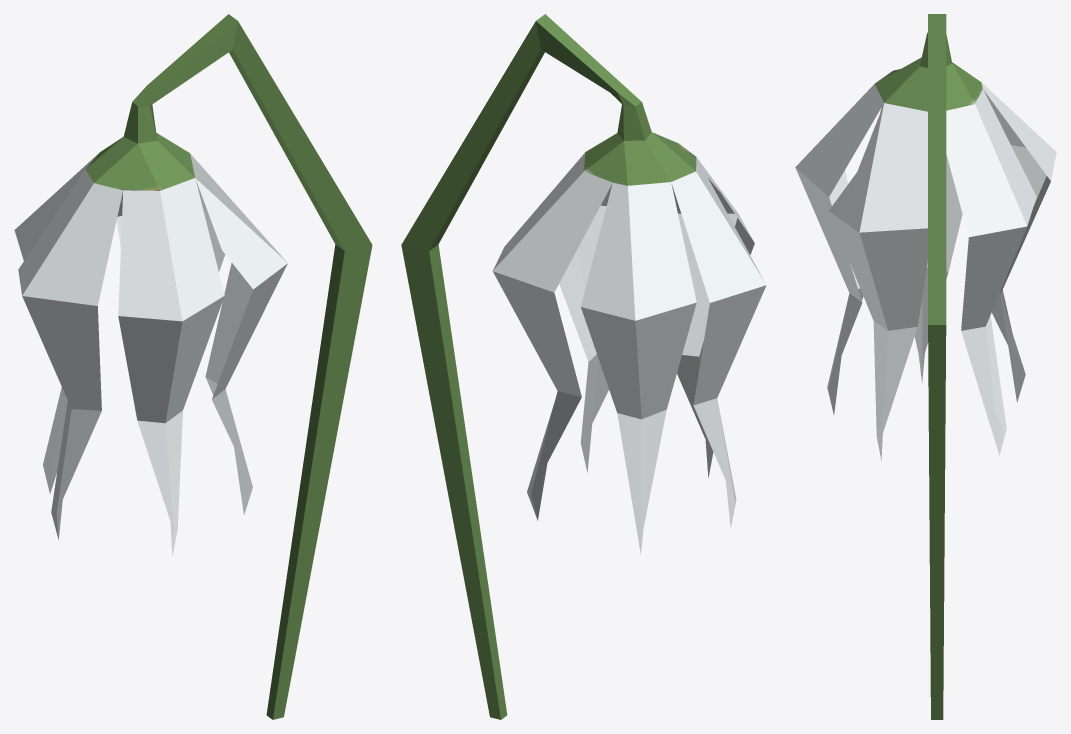
Rendered from Flor 1.fbx.
The picture shows the model from 3 angles, left to right: view 1: azimuth 30°, elevation 25°; view 2: azimuth 150°, elevation 25°; view 3: azimuth 270°, elevation 25°; orthographic projection. The views are drawn at different scales.
Parts seen in each view (by area): view 1: 5. Flower 2 ( ver 1 ); view 2: 5. Flower 2 ( ver 1 ); view 3: 5. Flower 2 ( ver 1 ).
Boxes of the visible parts, left/top/right/bottom form: 5. Flower 2 ( ver 1 ): left=14, top=14, right=372, bottom=719; 5. Flower 2 ( ver 1 ): left=401, top=14, right=766, bottom=719; 5. Flower 2 ( ver 1 ): left=795, top=14, right=1056, bottom=719.
Size of the model in its own units: 48.49 by 93.04 by 32.25.
